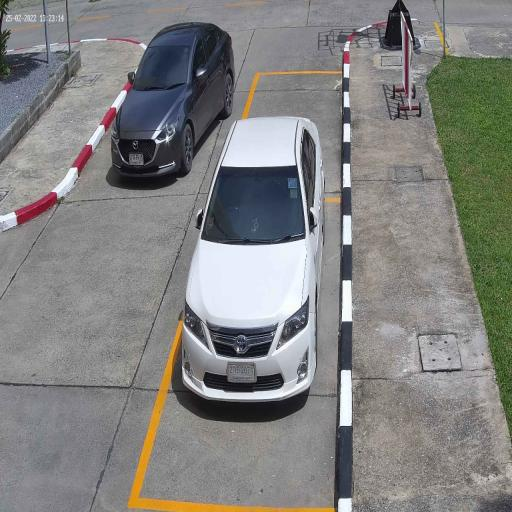car: (180, 114, 325, 408), (110, 19, 237, 182)
